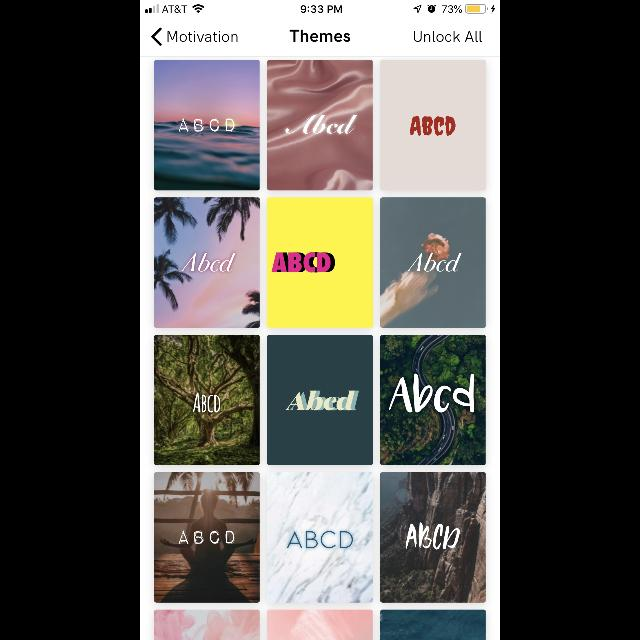icon: (152, 28, 162, 46)
image: (154, 60, 260, 192), (380, 472, 486, 602), (154, 473, 260, 603), (380, 335, 486, 465), (267, 335, 373, 465), (154, 335, 260, 465), (154, 198, 260, 328), (267, 197, 373, 327), (380, 198, 486, 328), (380, 60, 486, 190), (267, 60, 373, 190), (268, 472, 372, 602), (154, 610, 260, 640), (267, 610, 373, 640), (380, 610, 486, 640)
text: (290, 30, 350, 42), (168, 32, 238, 42), (414, 32, 482, 42)
uppertaskbar: (140, 0, 500, 14)
